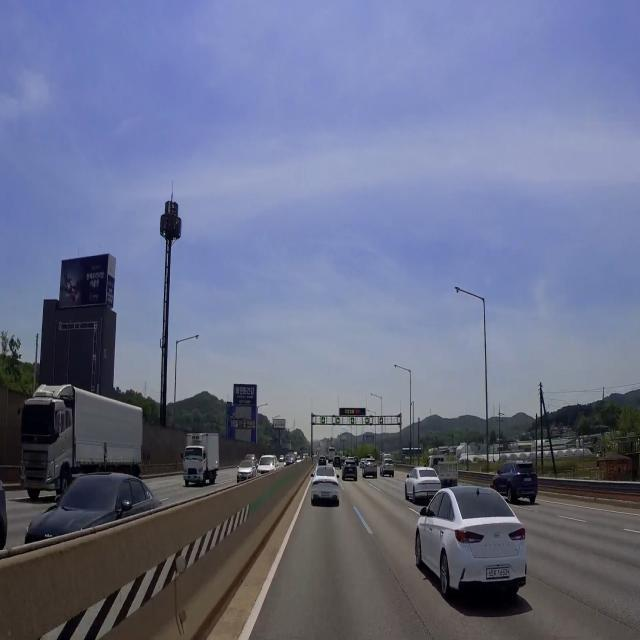car: (486, 565, 513, 582), (318, 488, 337, 502), (521, 475, 537, 488), (422, 489, 442, 499), (26, 481, 43, 492)
